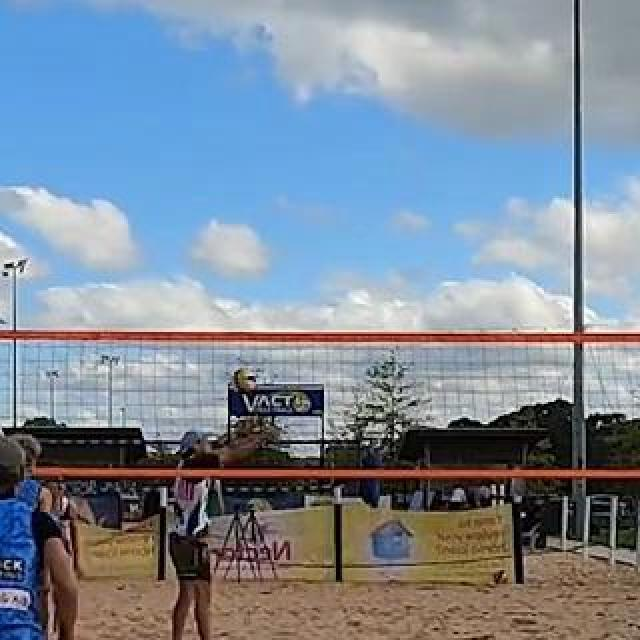volleyball: (234, 369, 258, 393), (493, 568, 509, 584)
